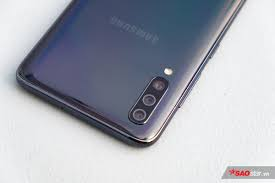samsung: (13, 1, 245, 145)
